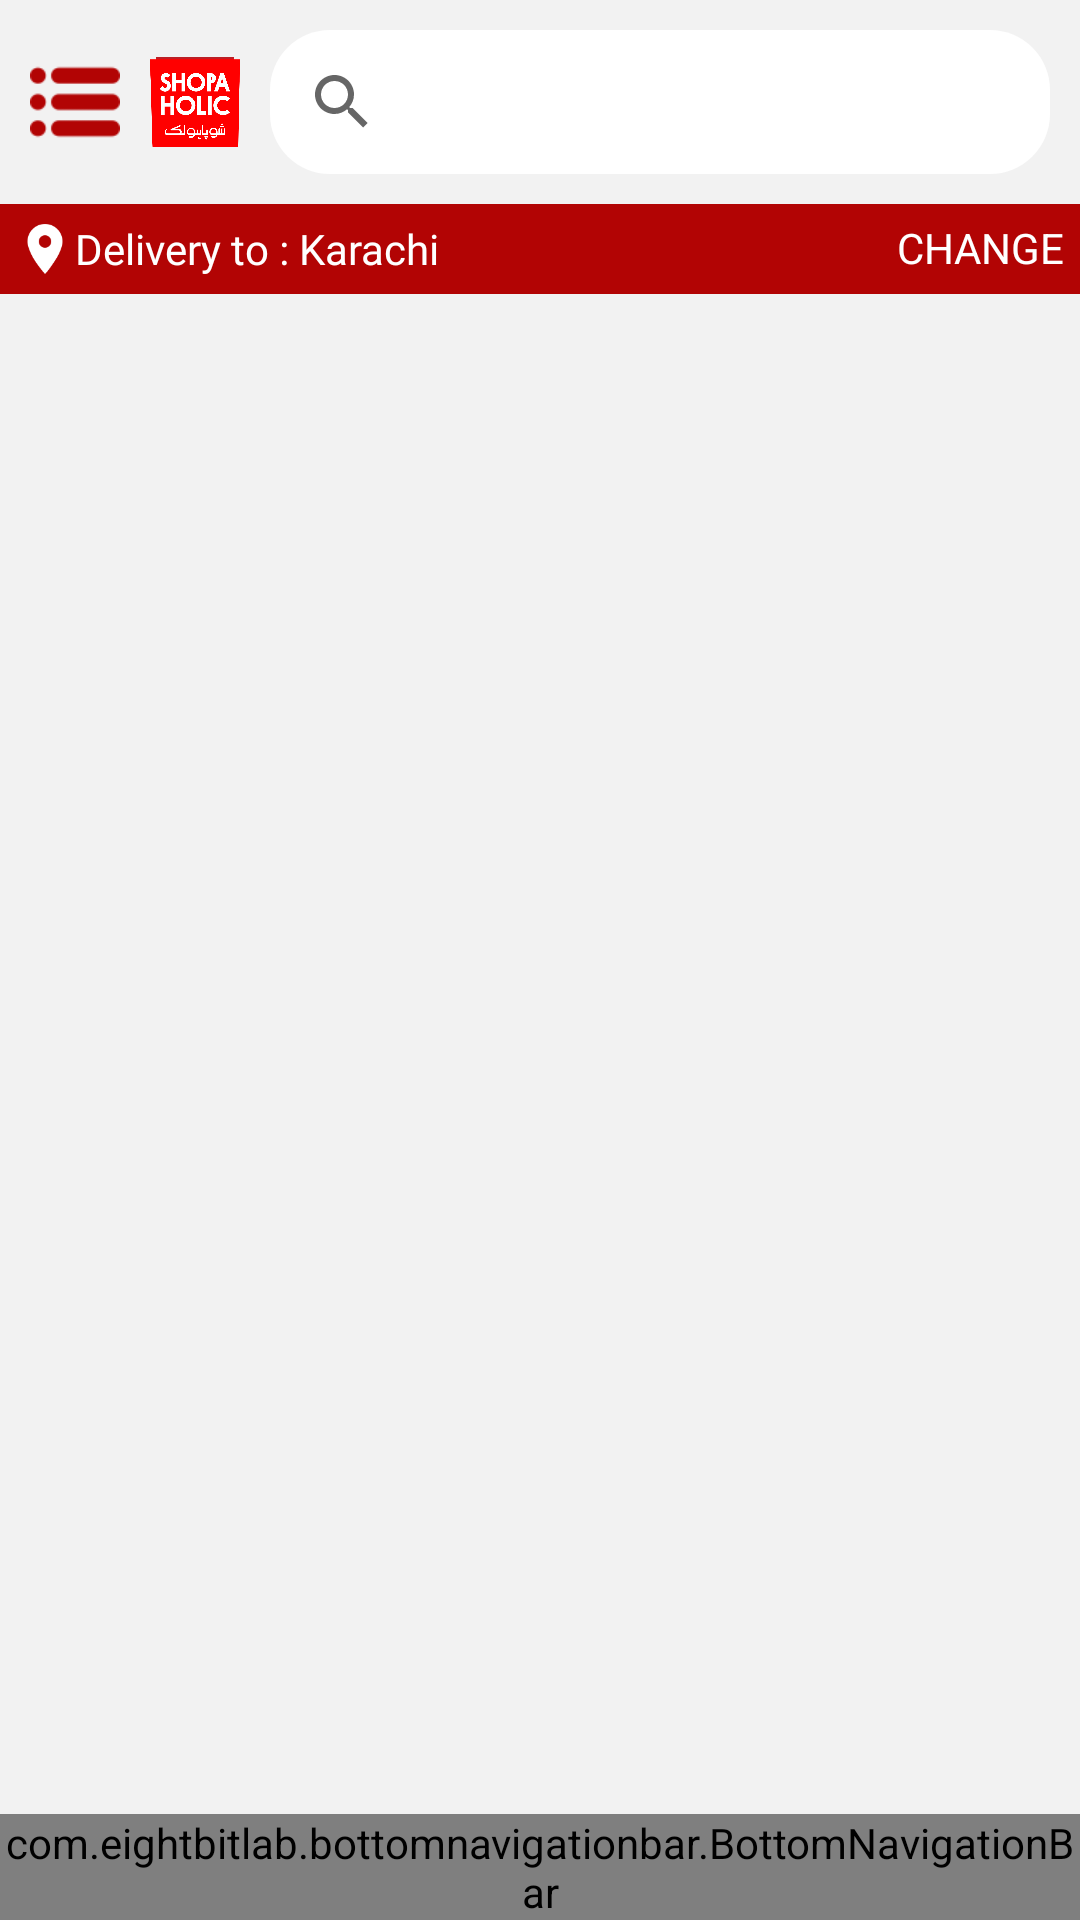

Screen size 1080*1920. Icon name, then its center in pixels as (x,y):
location: (45,249)
menu: (75,102)
